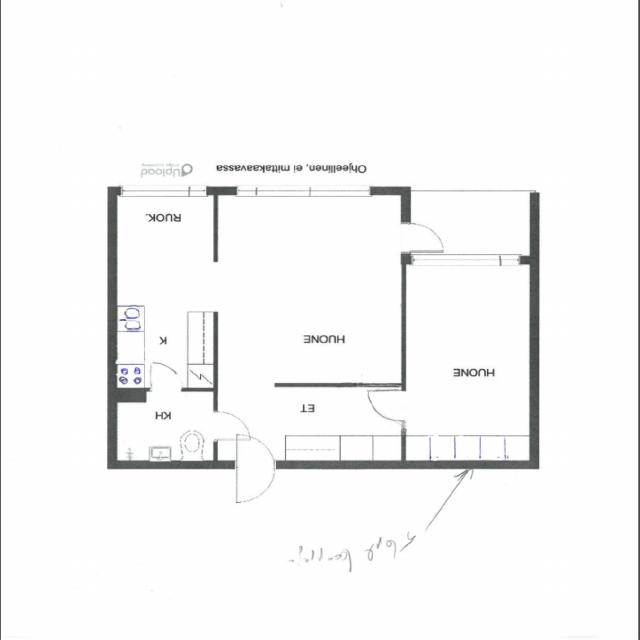door: (237, 461, 274, 502), (237, 428, 274, 469), (402, 222, 446, 252), (212, 411, 252, 441), (368, 390, 407, 420), (150, 361, 182, 392)
